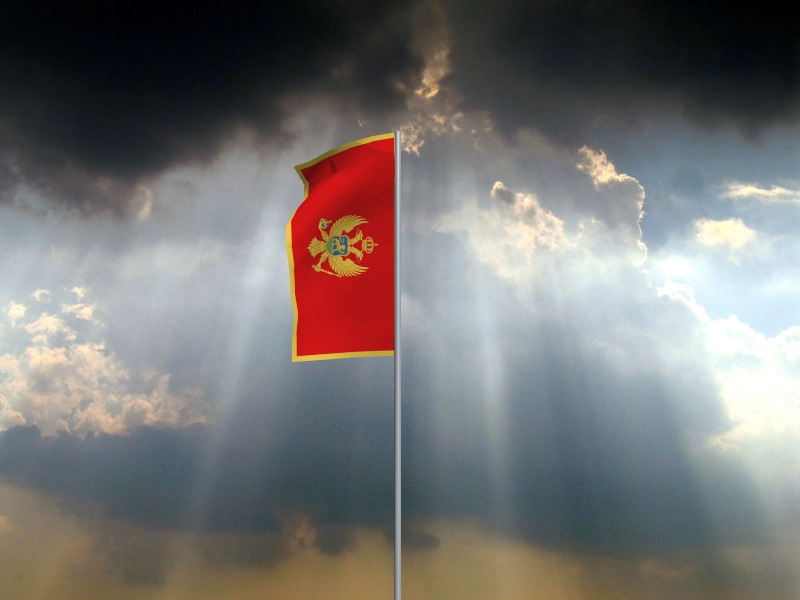me: (285, 132, 395, 364)
